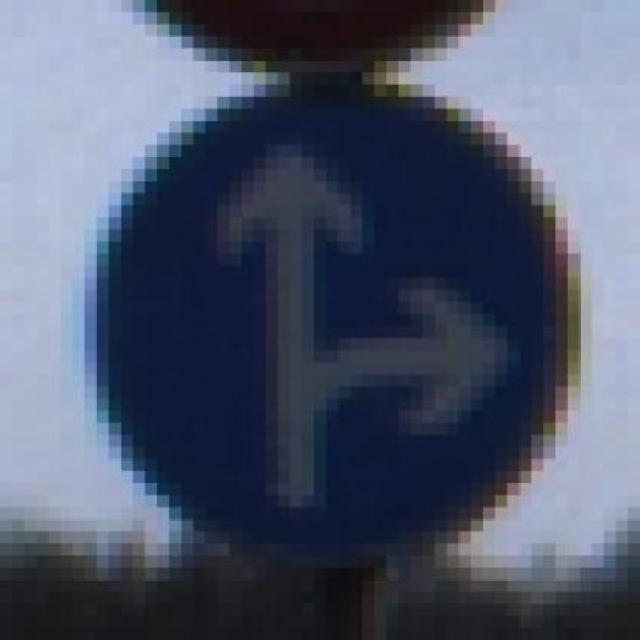Go Straight or Turn Right: (60, 72, 592, 568)
